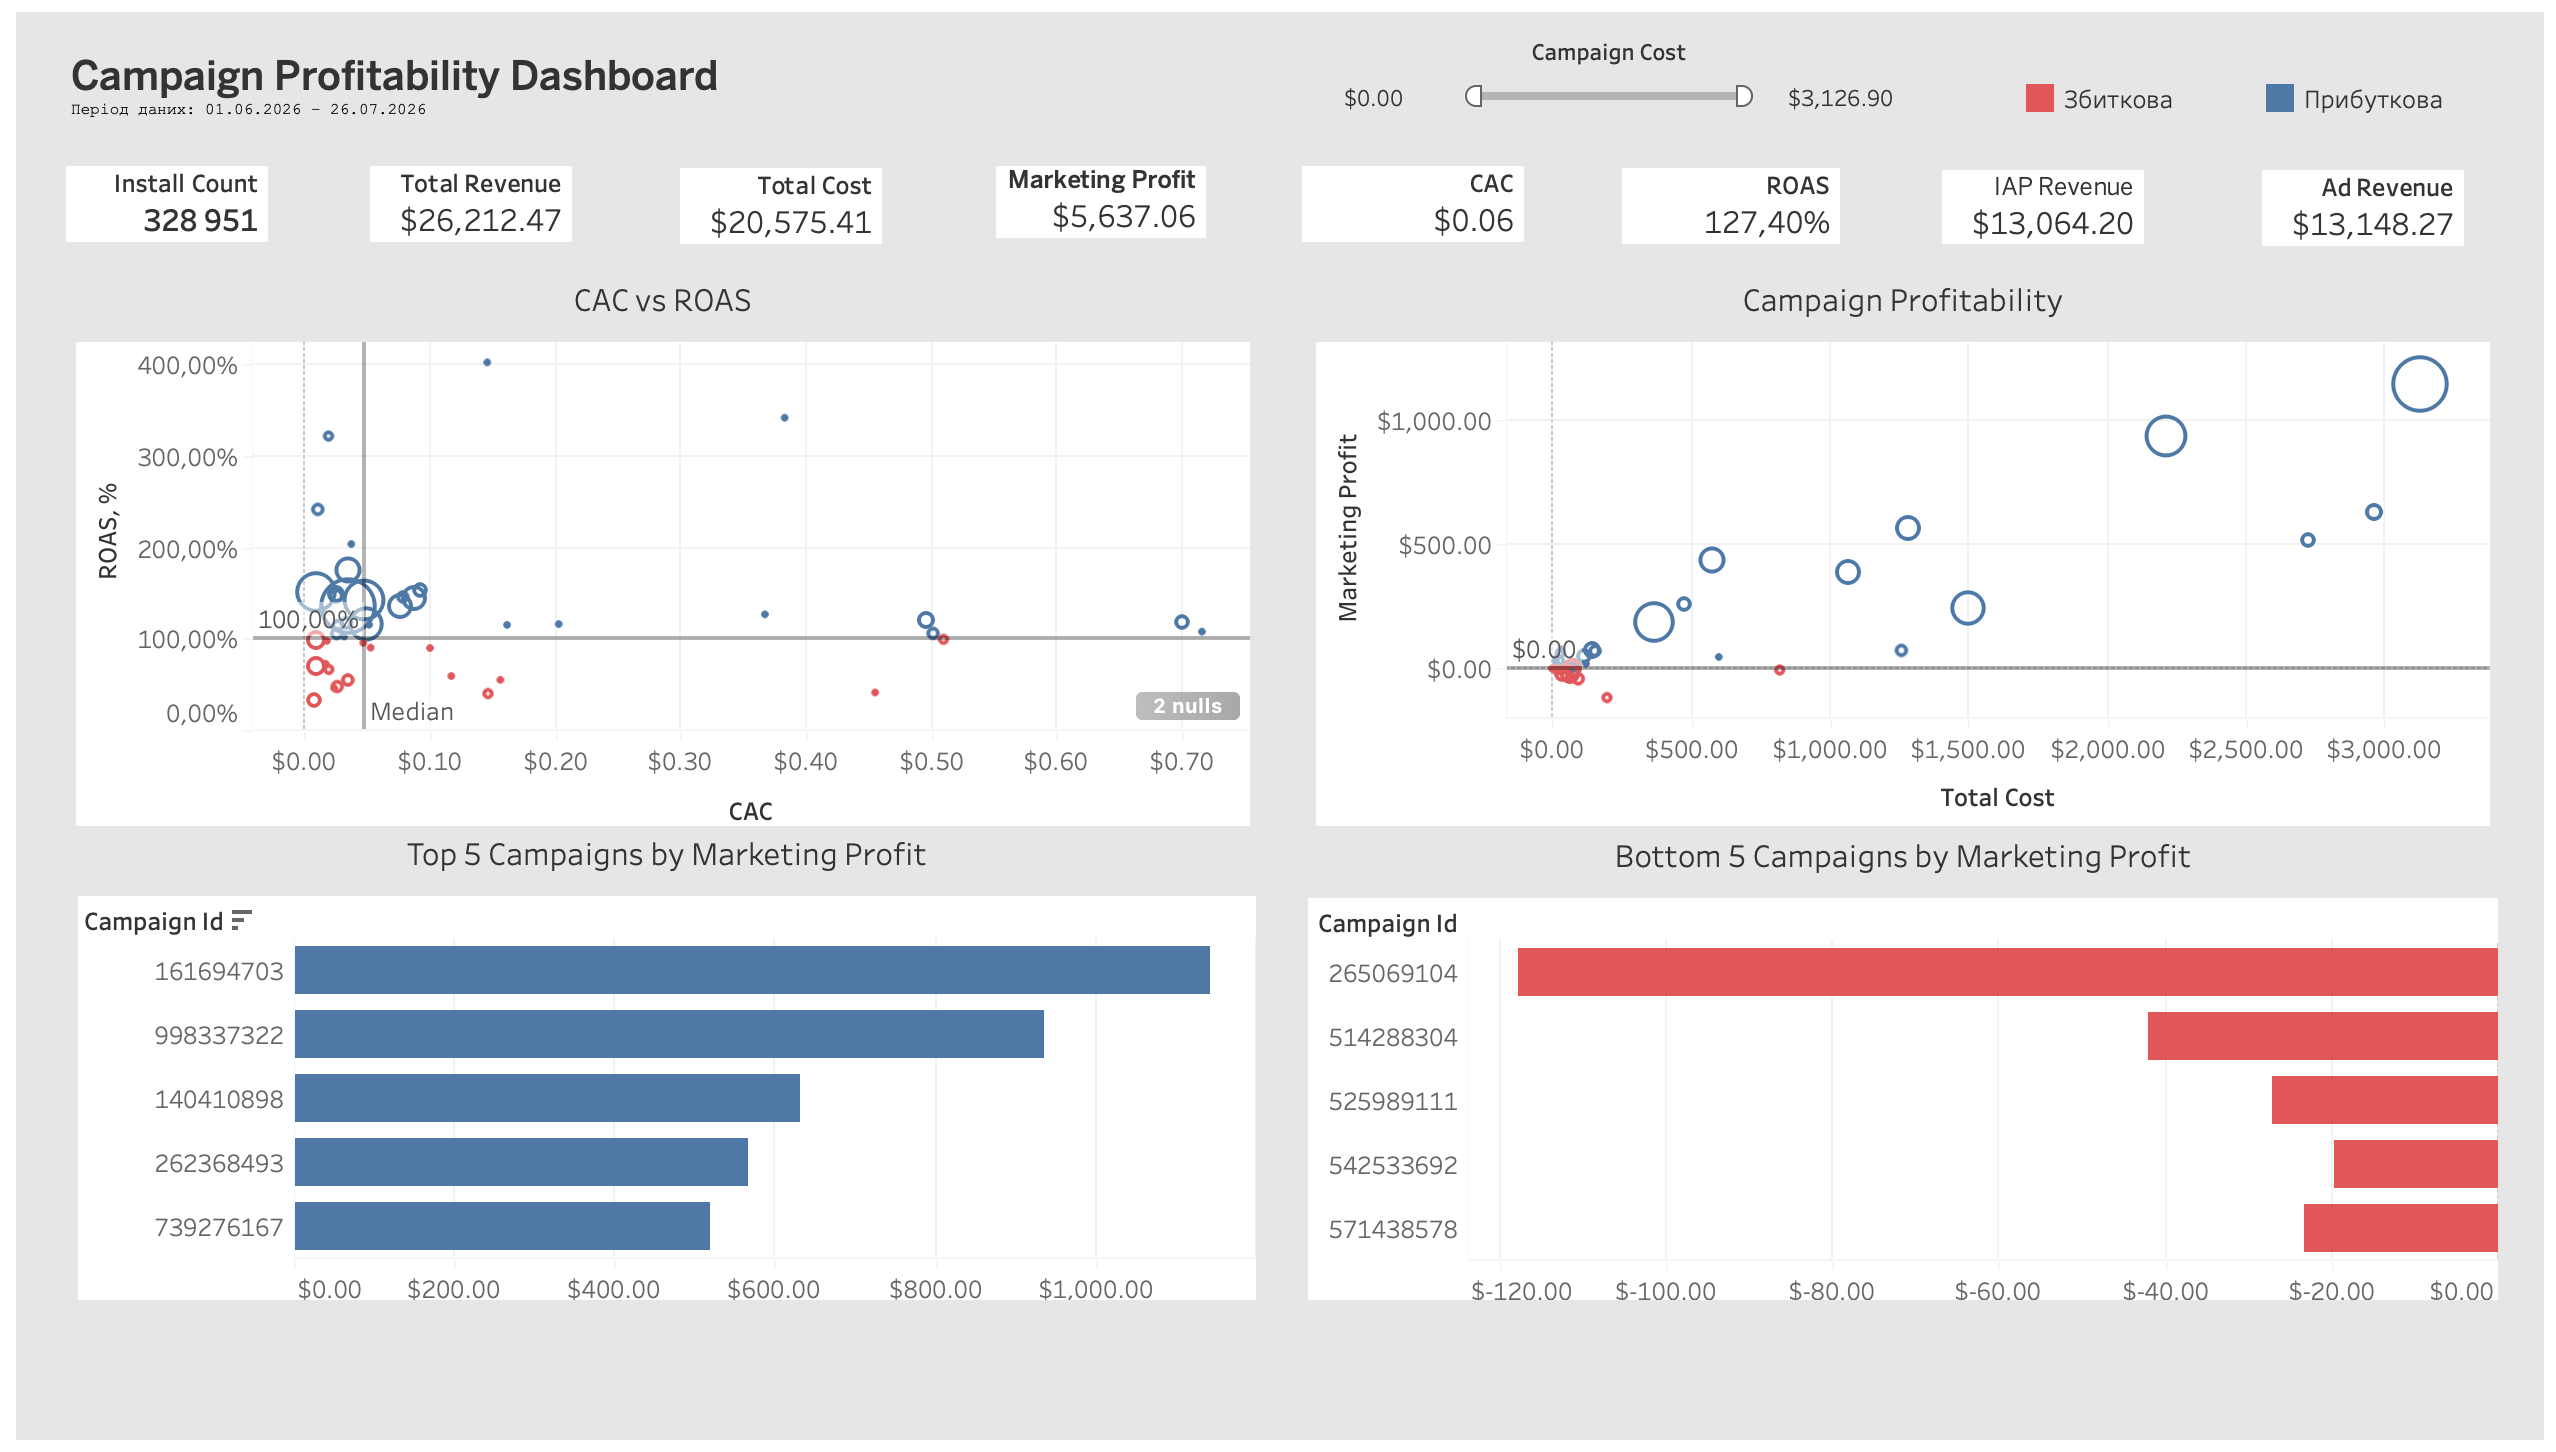

Layout of this report page (visuals, bound fields, positions):
{"tool":"tableau","page":{"name":"Campaign Profitability Dashboard","canvas":[1000,1000],"units":"permille","ordinal":0},"visuals":[{"type":"text","box":[22.4,26,580.4,71.5]},{"type":"filter","title":"CAC vs ROAS","param":"[federated.1h7905l1ne7yzm1111skk0gl58dq].[none:total_cost_usd:qk]","box":[503.7,27.6,249.5,63.4]},{"type":"legend","title":"CAC vs ROAS","param":"[federated.1h7905l1ne7yzm1111skk0gl58dq].[none:Calculation_2063493090854408195:n","box":[788.8,30.9,189.7,60.2]},{"type":"worksheet","title":"Install Count","mark":"Automatic","box":[22.4,110.6,110.3,74.8]},{"type":"worksheet","title":"Total Revenue","mark":"Automatic","box":[141.1,110.6,110.3,74.8]},{"type":"worksheet","title":"Profit","mark":"Automatic","box":[386,110.6,110.3,71.5]},{"type":"worksheet","title":"CAC","mark":"Automatic","box":[505.6,110.6,110.3,74.8]},{"type":"worksheet","title":"Total Cost Usd","mark":"Automatic","box":[262.6,112.2,110.3,74.8]},{"type":"worksheet","title":"Roas, %","mark":"Automatic","box":[630.8,112.2,110.3,74.8]},{"type":"worksheet","title":"Total Iap Revenue","mark":"Automatic","box":[755.1,113.8,110.3,73.2]},{"type":"worksheet","title":"Total Ad Revenue","mark":"Automatic","box":[880.4,113.8,110.3,74.8]},{"type":"worksheet","title":"CAC vs ROAS","mark":"Automatic","rows":["Calculation_2063493090832150530"],"cols":["Calculation_2063493090831491072"],"box":[29.9,187,458.9,382.1]},{"type":"worksheet","title":"Campaign Profitability","mark":"Automatic","rows":["profit"],"cols":["total_cost_usd"],"box":[514,187,458.9,382.1]},{"type":"worksheet","title":"Top 5 Campaigns by Marketing Profit","mark":"Automatic","rows":["campaign_id"],"cols":["profit"],"box":[30.8,567.5,459.8,414.6]},{"type":"worksheet","title":"Bottom 5 Campaigns by Marketing Profit","mark":"Automatic","rows":["campaign_id"],"cols":["profit"],"box":[511.2,569.1,464.5,413]}]}

Visuals, with their boxes on the dashboard's canvas, which has no fixed pixel size, in thousandths of its width and height (x1, y1, x2, y2). These are canvas units, not pixel positions in the 2556x1452 screenshot, which may show the page scaled, cropped or inside an application window:
text: {"left": 22, "top": 26, "right": 603, "bottom": 98}
"CAC vs ROAS" filter: {"left": 504, "top": 28, "right": 753, "bottom": 91}
"CAC vs ROAS" legend: {"left": 789, "top": 31, "right": 978, "bottom": 91}
"Install Count" worksheet: {"left": 22, "top": 111, "right": 133, "bottom": 185}
"Total Revenue" worksheet: {"left": 141, "top": 111, "right": 251, "bottom": 185}
"Profit" worksheet: {"left": 386, "top": 111, "right": 496, "bottom": 182}
"CAC" worksheet: {"left": 506, "top": 111, "right": 616, "bottom": 185}
"Total Cost Usd" worksheet: {"left": 263, "top": 112, "right": 373, "bottom": 187}
"Roas, %" worksheet: {"left": 631, "top": 112, "right": 741, "bottom": 187}
"Total Iap Revenue" worksheet: {"left": 755, "top": 114, "right": 865, "bottom": 187}
"Total Ad Revenue" worksheet: {"left": 880, "top": 114, "right": 991, "bottom": 189}
"CAC vs ROAS" worksheet: {"left": 30, "top": 187, "right": 489, "bottom": 569}
"Campaign Profitability" worksheet: {"left": 514, "top": 187, "right": 973, "bottom": 569}
"Top 5 Campaigns by Marketing Profit" worksheet: {"left": 31, "top": 568, "right": 491, "bottom": 982}
"Bottom 5 Campaigns by Marketing Profit" worksheet: {"left": 511, "top": 569, "right": 976, "bottom": 982}
